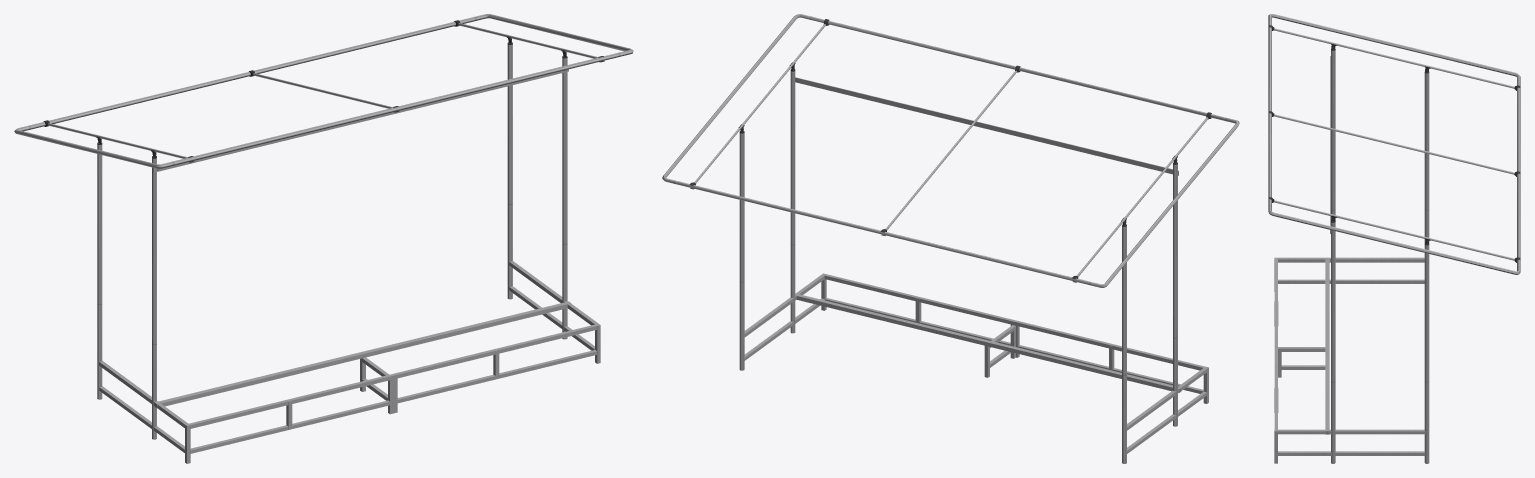
Rendered from jsf_4P_s04_Leg02.fbx.
The picture shows the model from 3 angles, left to right: view 1: azimuth 30°, elevation 25°; view 2: azimuth 150°, elevation 25°; view 3: azimuth 270°, elevation 25°; orthographic projection. The views are drawn at different scales.
Visible parts, largest first — view 1: jsf_4P_s04_Leg02; view 2: jsf_4P_s04_Leg02; view 3: jsf_4P_s04_Leg02.
Boxes of the visible parts, x1,y1,x2,y2 form: jsf_4P_s04_Leg02: [14, 14, 633, 463]; jsf_4P_s04_Leg02: [662, 14, 1239, 463]; jsf_4P_s04_Leg02: [1268, 14, 1520, 463].
Bounding box in the file's own units: 394 × 243 × 210.
